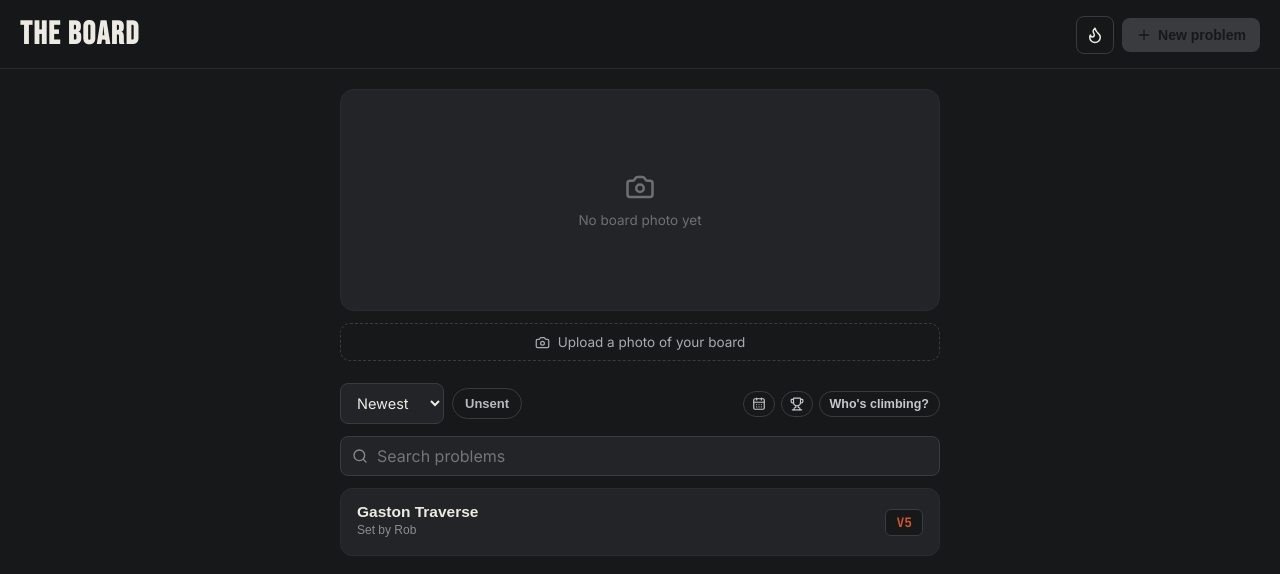
App (delete flow) › shows an undo banner after deleting, and restores the problem on undo
This screenshot has width=1280, height=574.
Click the text "Gaston Traverse": (418, 512) [357, 503, 478, 521]
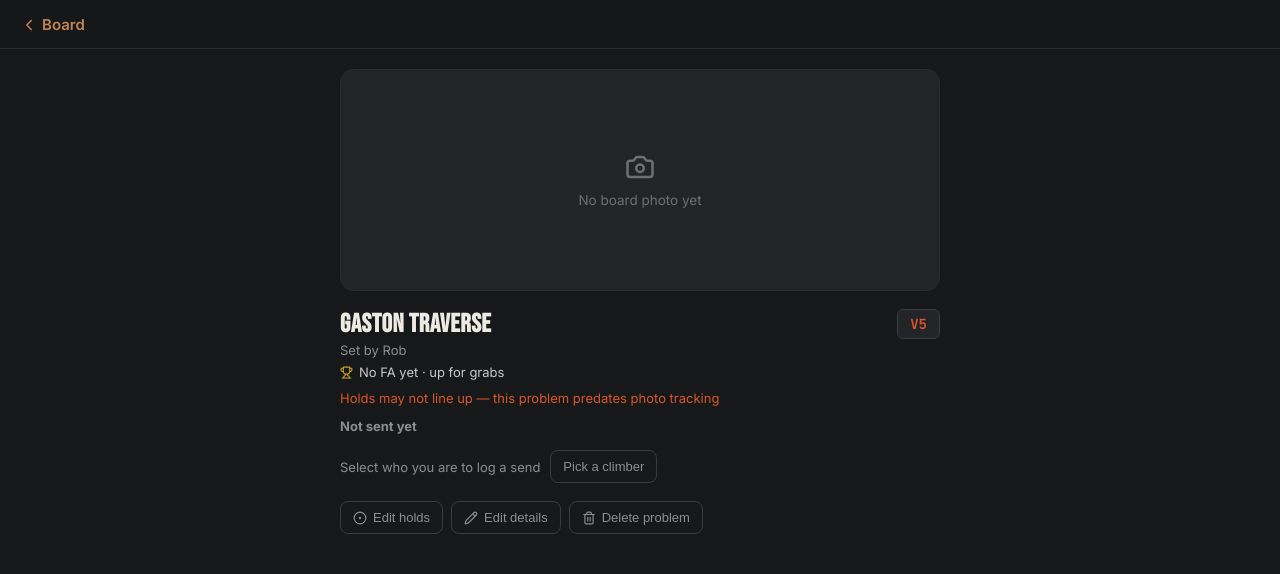
Click the button "Delete problem": (636, 518) [569, 501, 703, 534]
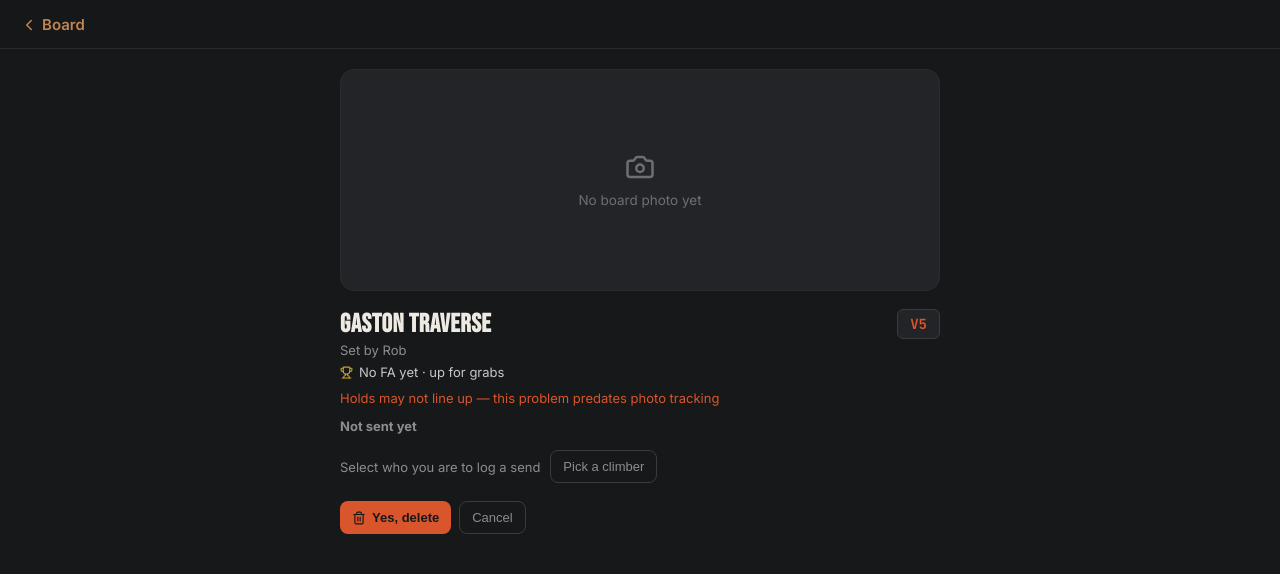
Click the button "Yes, delete": (396, 518) [340, 501, 451, 534]
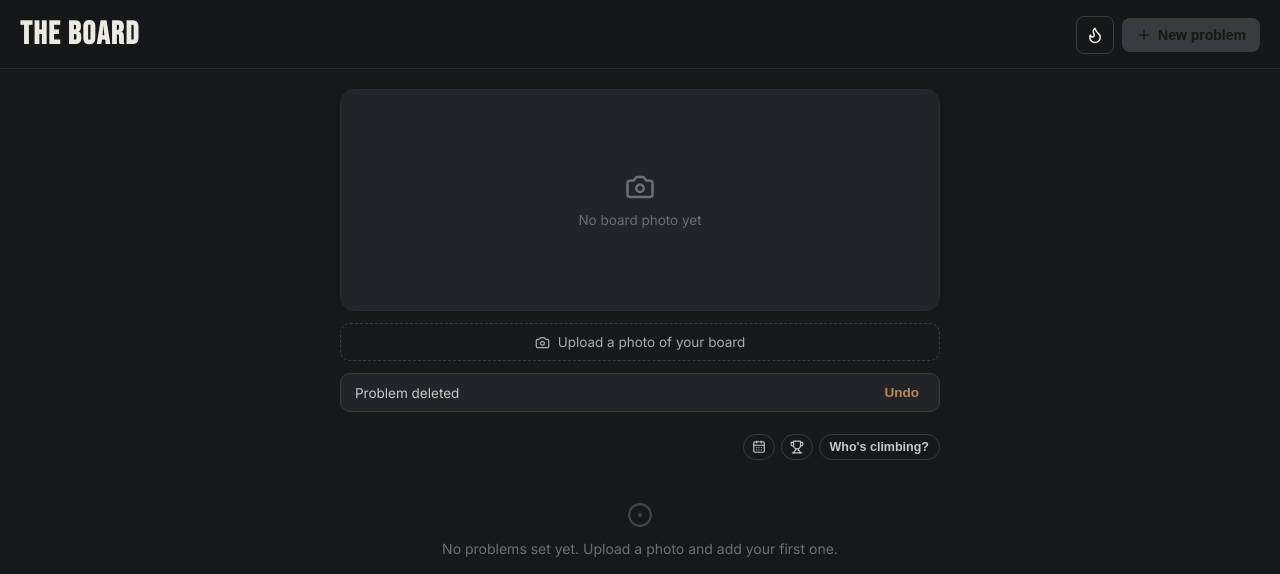
Click the button "Undo": (902, 392) [878, 384, 925, 401]
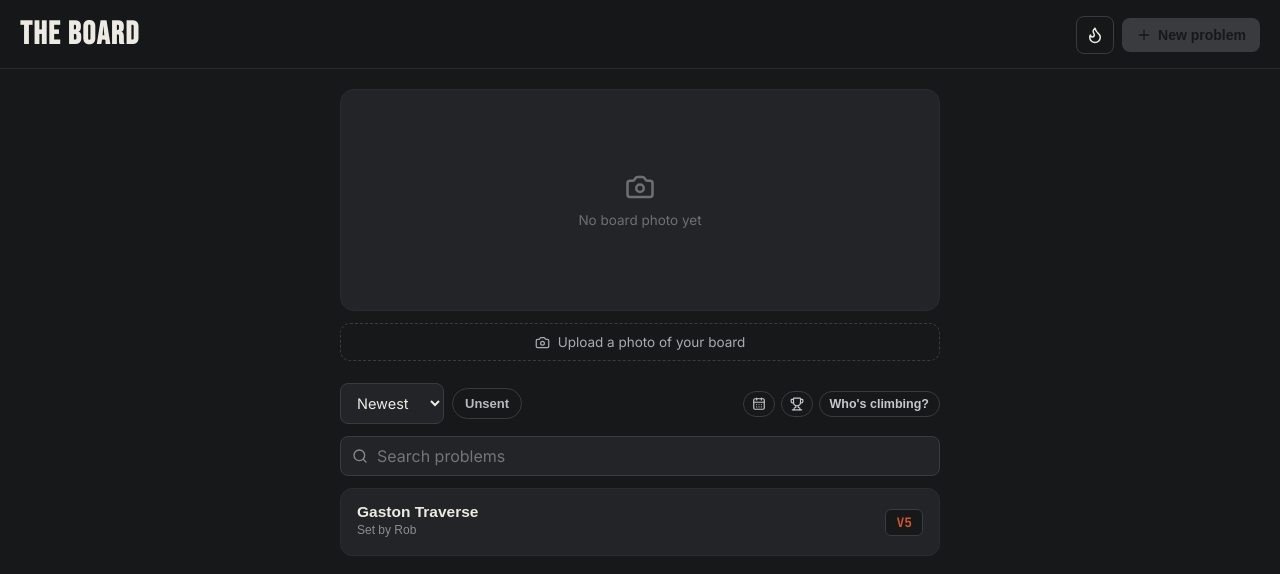
Expected: the text "Gaston Traverse" is shown, [357, 503, 478, 521]
